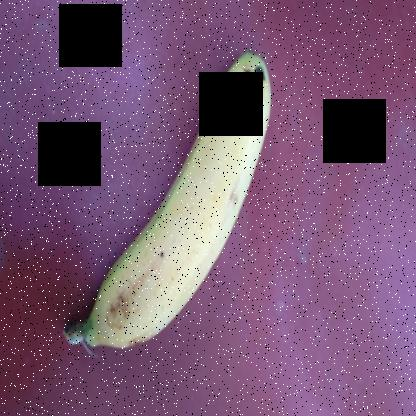freshripe: (86, 44, 278, 358)
